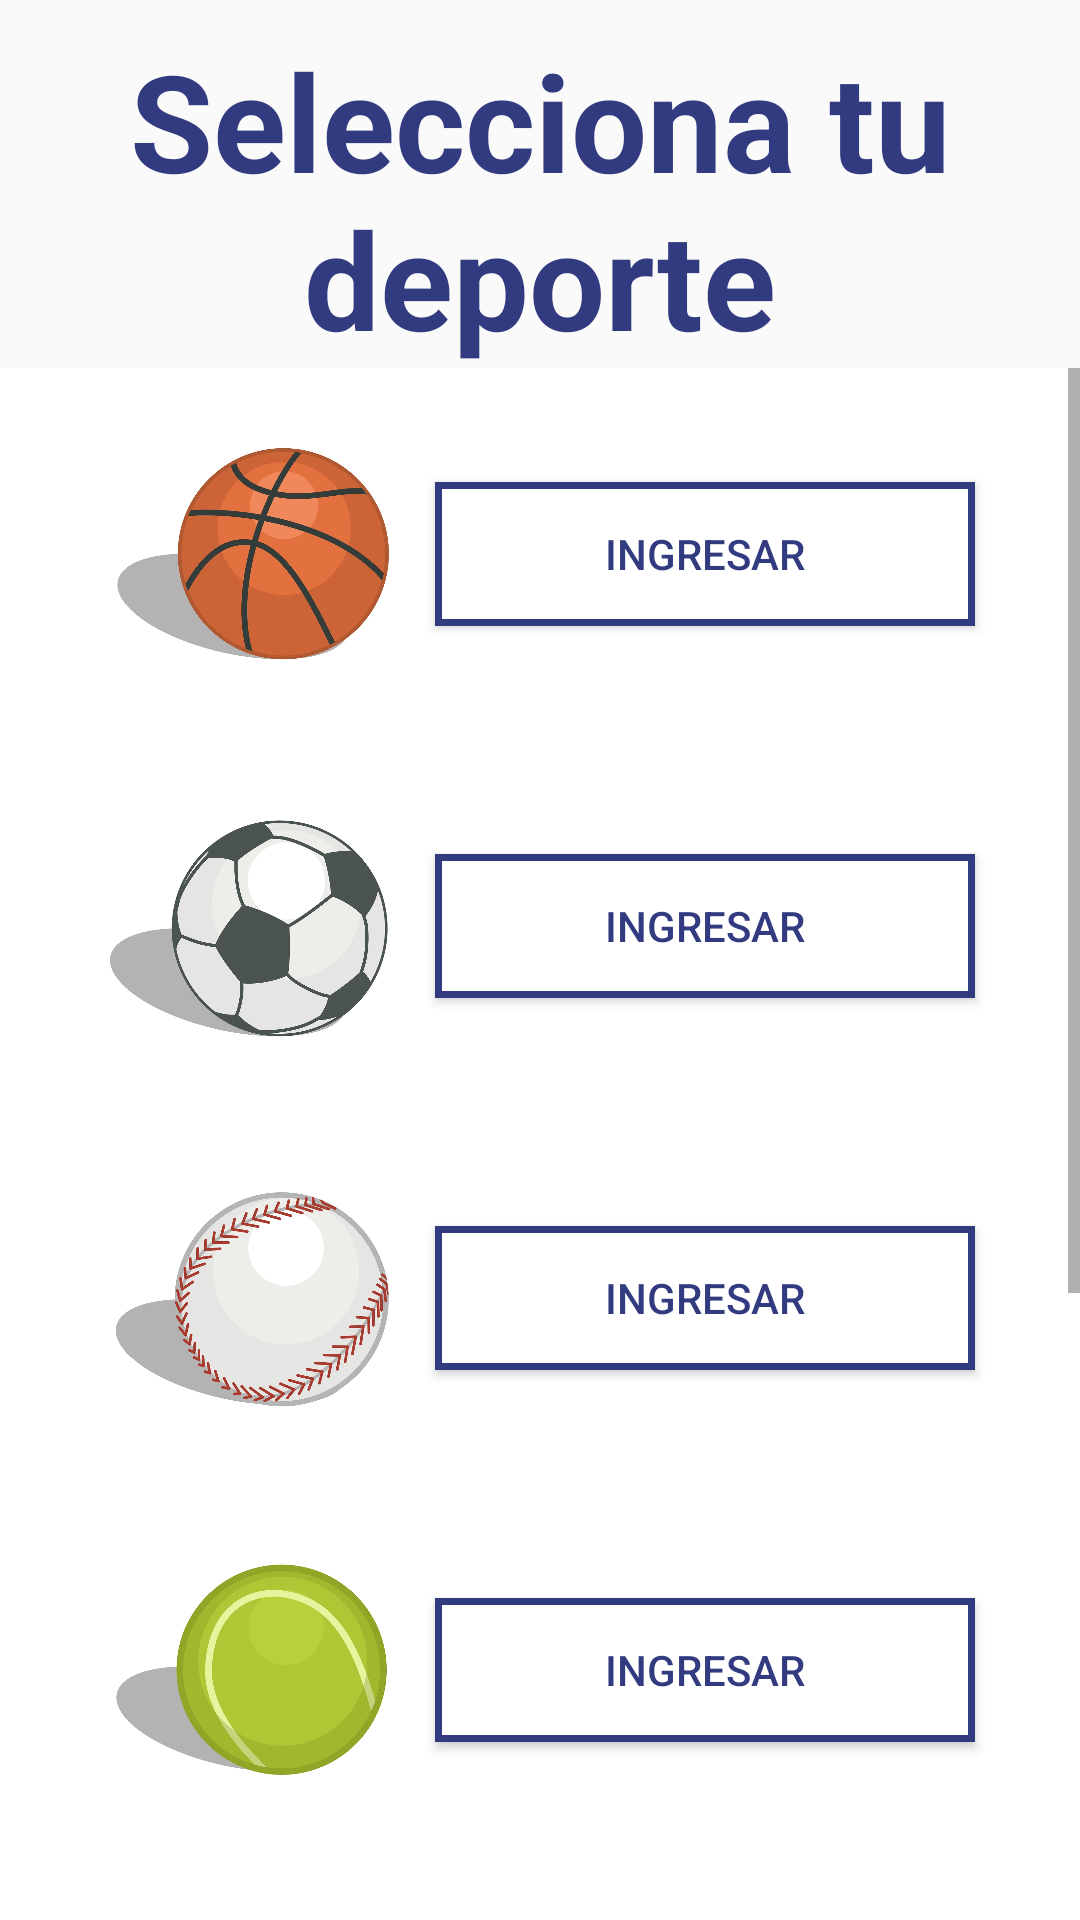

Icon bounding boxes for this 1080 x 1920 phone screenshot, format [x1, y1, x2, y2]:
baseball: [116, 1192, 389, 1406]
basket: [117, 448, 389, 659]
soccer: [110, 820, 388, 1036]
tennis: [116, 1564, 387, 1775]
